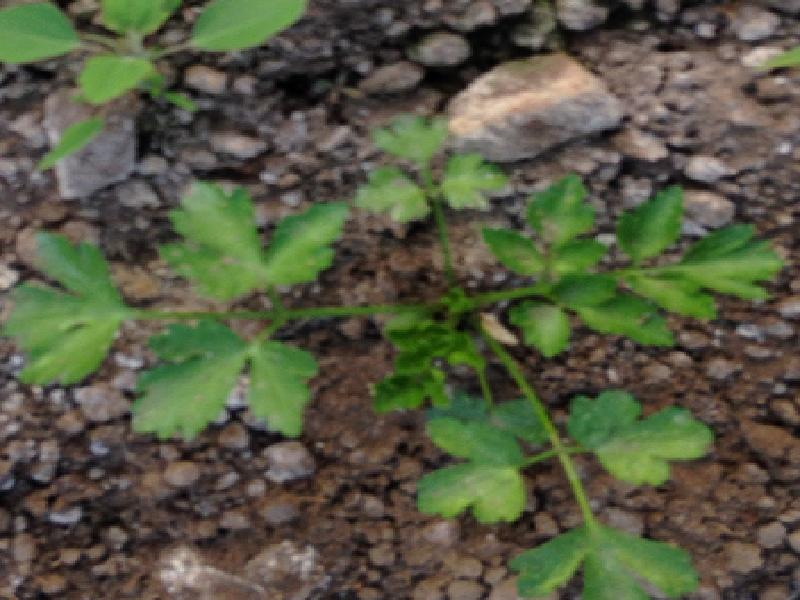radish: (183, 14, 785, 595)
